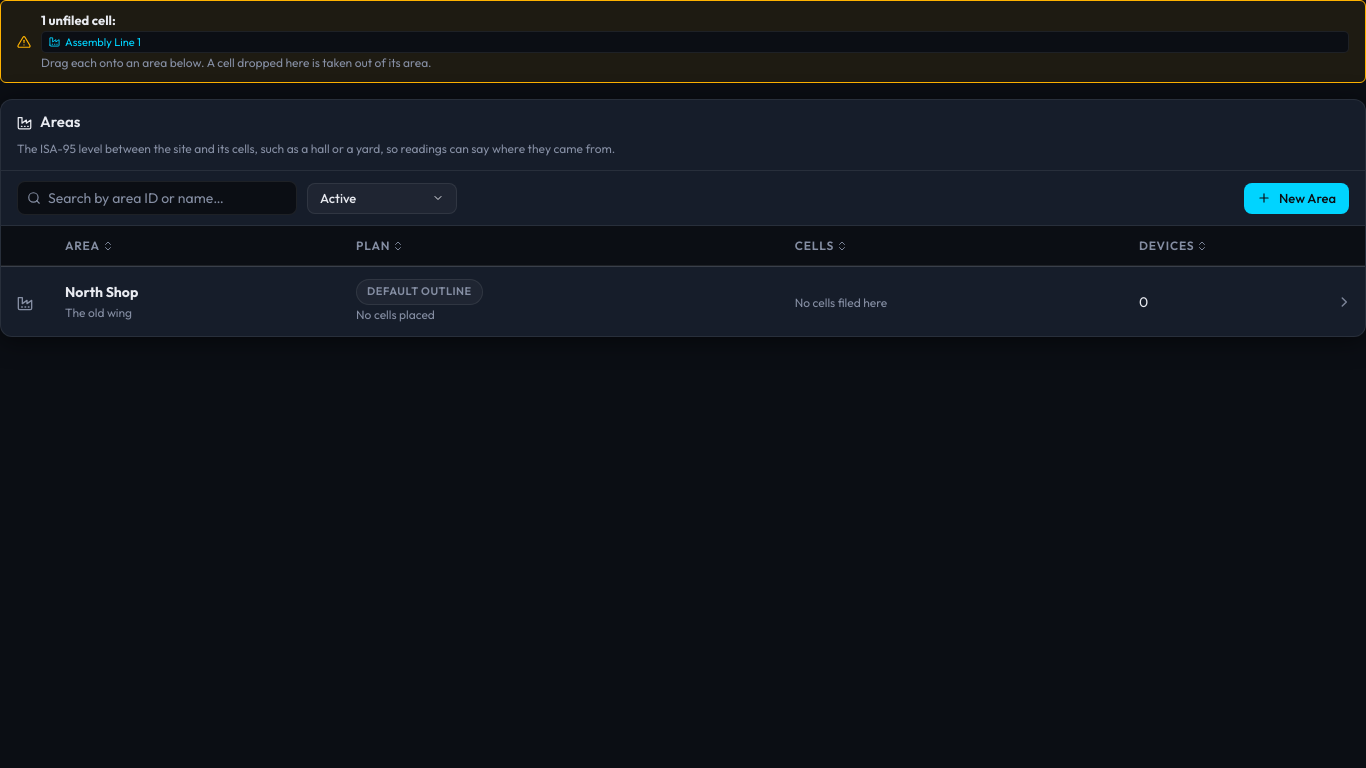
editing an area › says that nothing has changed, and sends nothing
Click the text "North Shop" at (102, 292), box [1,267,1365,336]
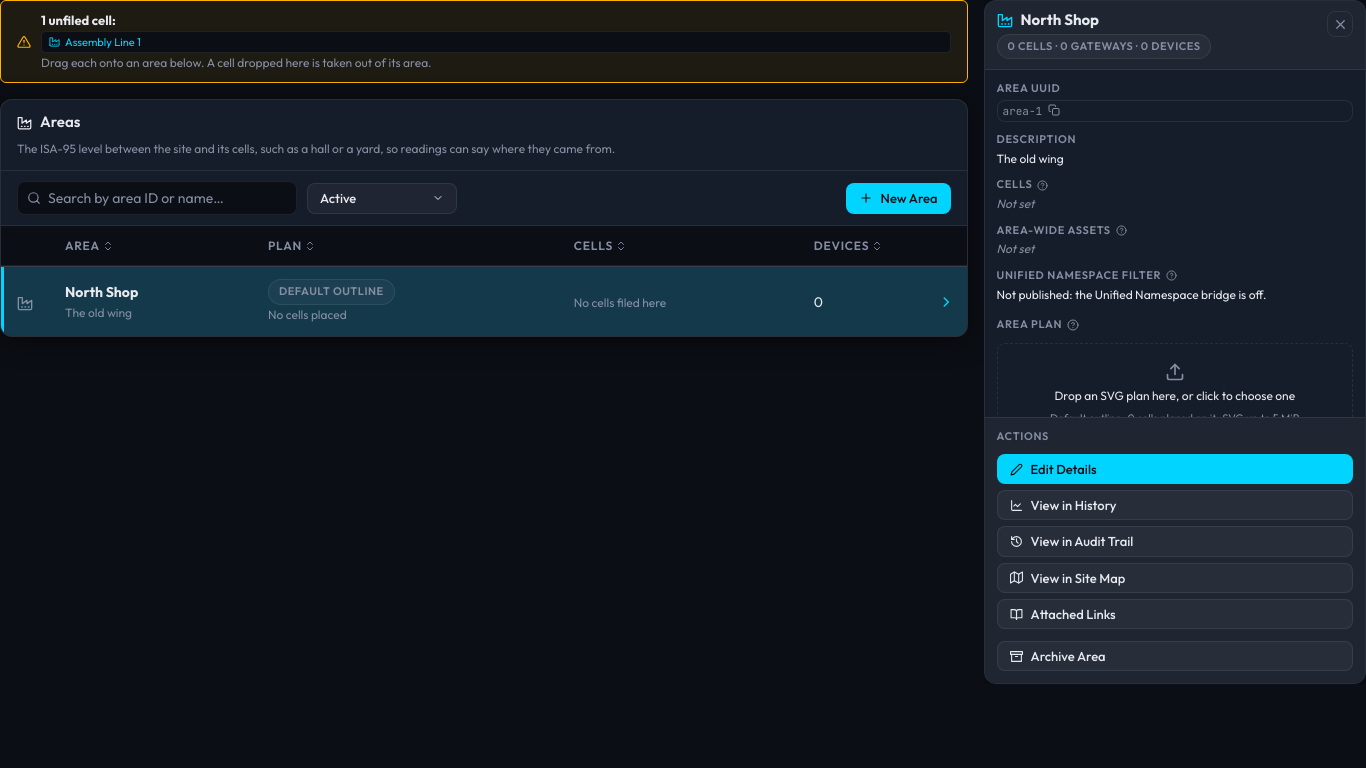
Now the button with class "context-action" showing "Edit Details" is shown
Click the button with class "context-action" showing "Edit Details" at (1064, 468), box [996,454,1353,484]
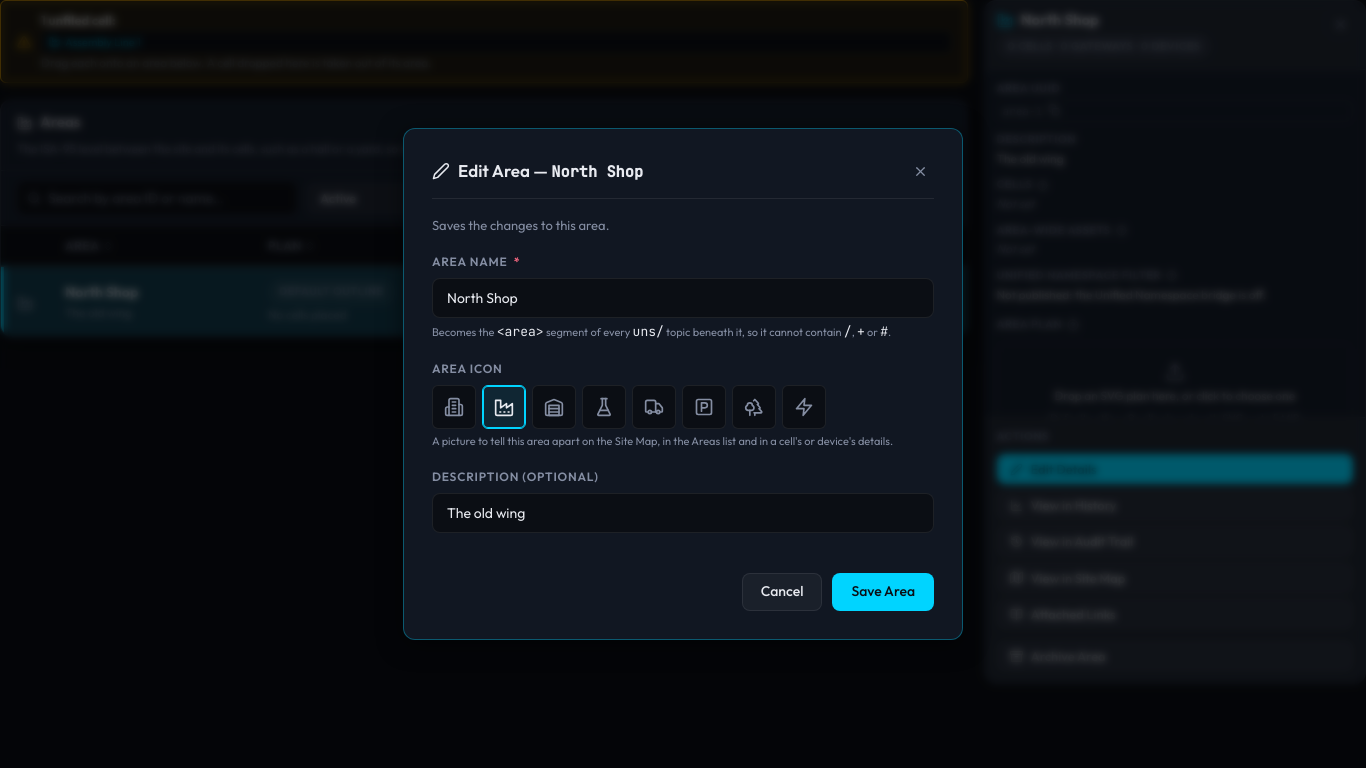
Now the button "Save Area" is enabled
Click the button "Save Area" at (883, 592), box [832,573,934,611]
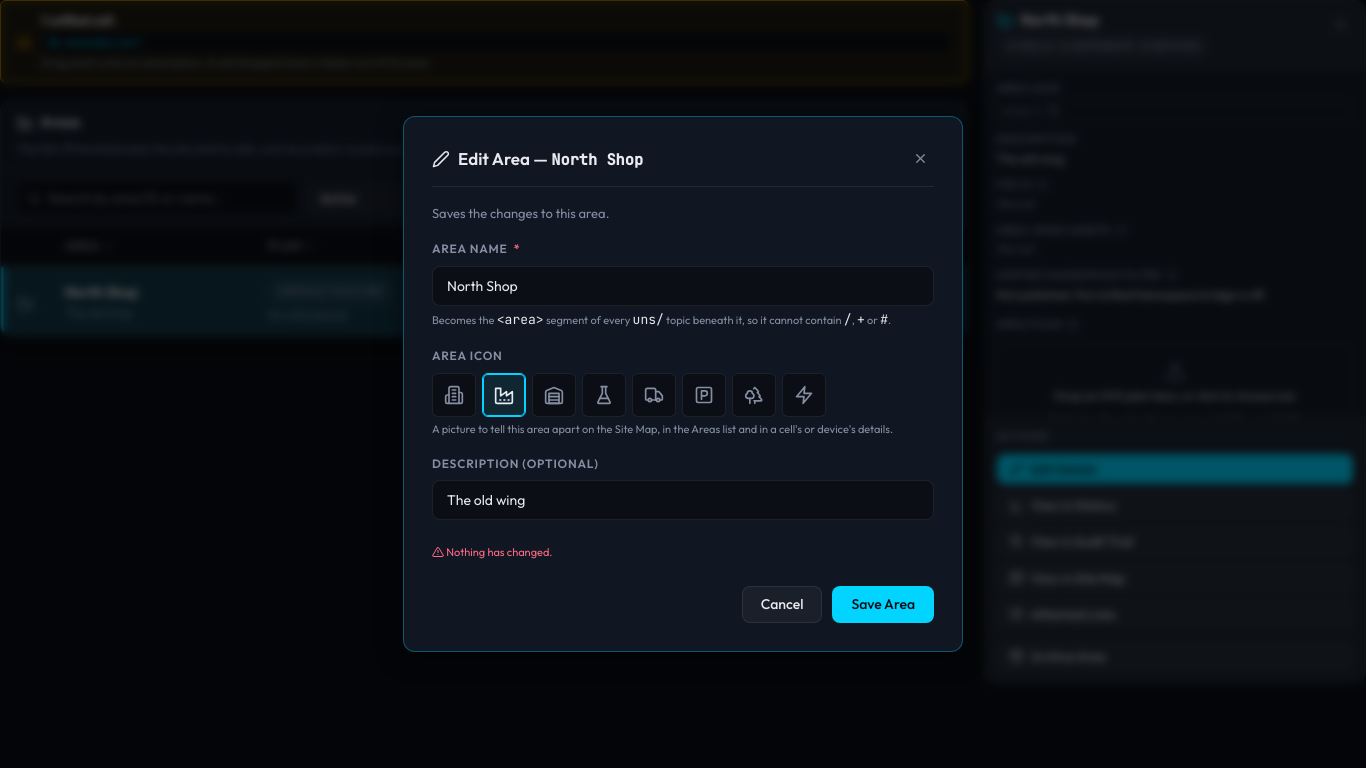
Now the element with class "hint-danger" reads "Nothing has changed.", box [446,545,552,559]
